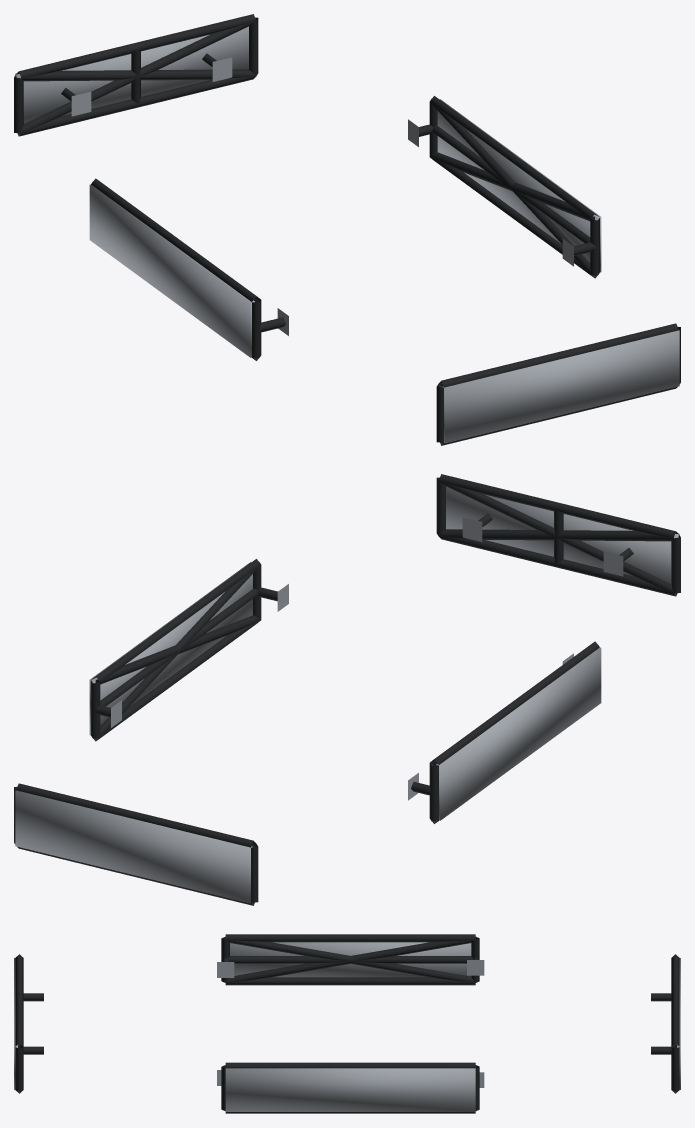
File: morel_jangada_protecao.glb
3 renders of one model, top to bottom at view 1: azimuth 30°, elevation 25°; view 2: azimuth 150°, elevation 25°; view 3: azimuth 270°, elevation 25°, orthographic. The views are drawn at different scales.
Parts seen in each view (by area): view 1: Protection_front_Level3_Details, Protection_left_Level3_Details, Protection_rear_Level1_Details, Protection_rear_Level3_Details, Protection_right_Level1_Details, Protection_rear_Level2_Details, Protection_right_Level2_Details, Protection_right_Level3_Details, Protection_front_Level1_Details, Protection_left_Level1_Details; view 2: Protection_rear_Level3_Details, Protection_left_Level3_Details, Protection_front_Level1_Details, Protection_front_Level3_Details, Protection_right_Level1_Details, Protection_front_Level2_Details, Protection_right_Level2_Details, Protection_right_Level3_Details, Protection_rear_Level1_Details, Protection_left_Level1_Details; view 3: Protection_right_Level3_Details, Protection_left_Level1_Details, Protection_left_Level2_Details, Protection_left_Level3_Details, Protection_right_Level1_Details, Protection_rear_Level1_Details, Protection_front_Level1_Details.
Boxes of the visible parts, x1=… form: Protection_front_Level3_Details: x1=442, y1=330, x2=679, y2=443; Protection_left_Level3_Details: x1=89, y1=184, x2=254, y2=357; Protection_rear_Level1_Details: x1=14, y1=14, x2=258, y2=136; Protection_rear_Level3_Details: x1=15, y1=26, x2=248, y2=123; Protection_right_Level1_Details: x1=408, y1=96, x2=599, y2=278; Protection_rear_Level2_Details: x1=16, y1=21, x2=255, y2=135; Protection_right_Level2_Details: x1=430, y1=102, x2=598, y2=277; Protection_right_Level3_Details: x1=437, y1=99, x2=601, y2=272; Protection_front_Level1_Details: x1=436, y1=323, x2=680, y2=445; Protection_left_Level1_Details: x1=91, y1=178, x2=288, y2=360; Protection_rear_Level3_Details: x1=15, y1=790, x2=252, y2=903; Protection_left_Level3_Details: x1=436, y1=647, x2=601, y2=820; Protection_front_Level1_Details: x1=436, y1=474, x2=680, y2=596; Protection_front_Level3_Details: x1=446, y1=486, x2=679, y2=583; Protection_right_Level1_Details: x1=91, y1=559, x2=288, y2=741; Protection_front_Level2_Details: x1=439, y1=481, x2=678, y2=595; Protection_right_Level2_Details: x1=92, y1=565, x2=260, y2=740; Protection_right_Level3_Details: x1=89, y1=562, x2=252, y2=735; Protection_rear_Level1_Details: x1=14, y1=783, x2=258, y2=905; Protection_left_Level1_Details: x1=408, y1=641, x2=599, y2=823; Protection_right_Level3_Details: x1=225, y1=1068, x2=475, y2=1111; Protection_left_Level1_Details: x1=217, y1=934, x2=484, y2=985; Protection_left_Level2_Details: x1=225, y1=938, x2=475, y2=982; Protection_left_Level3_Details: x1=230, y1=942, x2=471, y2=977; Protection_right_Level1_Details: x1=217, y1=1062, x2=484, y2=1113; Protection_rear_Level1_Details: x1=651, y1=954, x2=679, y2=1093; Protection_front_Level1_Details: x1=15, y1=954, x2=43, y2=1093.
Bounding box in the file's own units: 1.99 × 0.354 × 4.22.
1 material, 1 textured.
